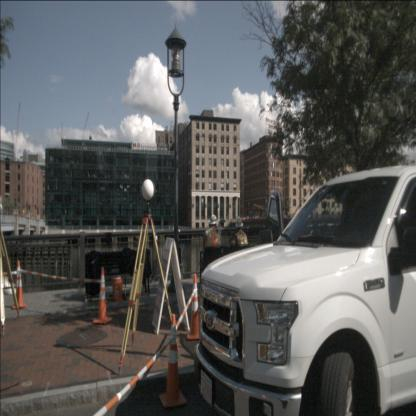cone: (159, 313, 187, 408), (92, 266, 112, 324), (186, 273, 203, 340), (11, 260, 27, 310)
